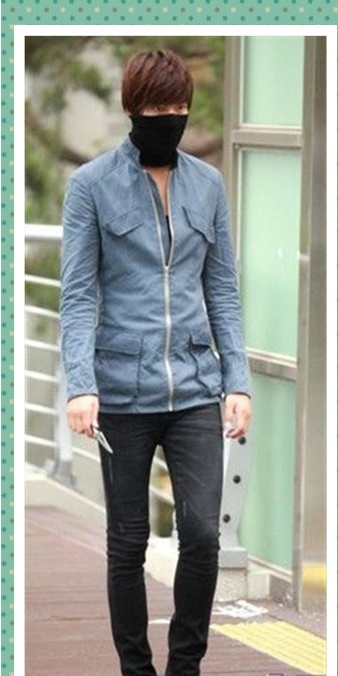face_mask: (129, 95, 188, 164)
